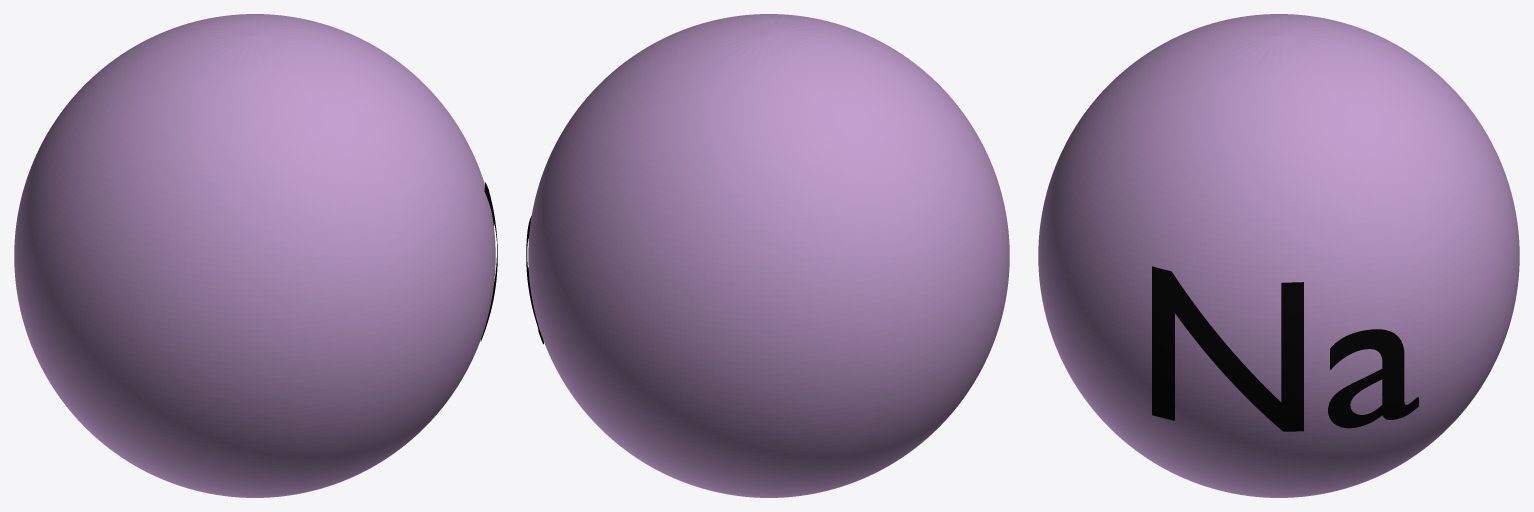
Rendered from Sodium (Na).fbx.
3 views of the same model, side by side, from view 1: azimuth 30°, elevation 25°; view 2: azimuth 150°, elevation 25°; view 3: azimuth 270°, elevation 25° (orthographic).
Visible parts, largest first — view 1: Sphere.004; view 2: Sphere.004; view 3: Sphere.004, Text.004.
Boxes of the visible parts, box(x1,y1,x2,y2) form: Sphere.004: box(14, 14, 495, 497); Sphere.004: box(528, 14, 1009, 497); Sphere.004: box(1038, 14, 1519, 497); Text.004: box(1152, 266, 1418, 431).
Size of the model in its own units: 198 by 200 by 197.
